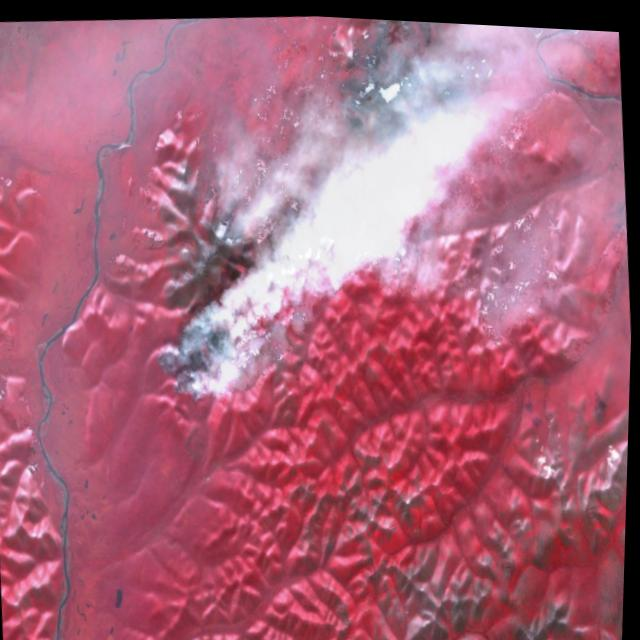fire: (143, 290, 258, 416)
